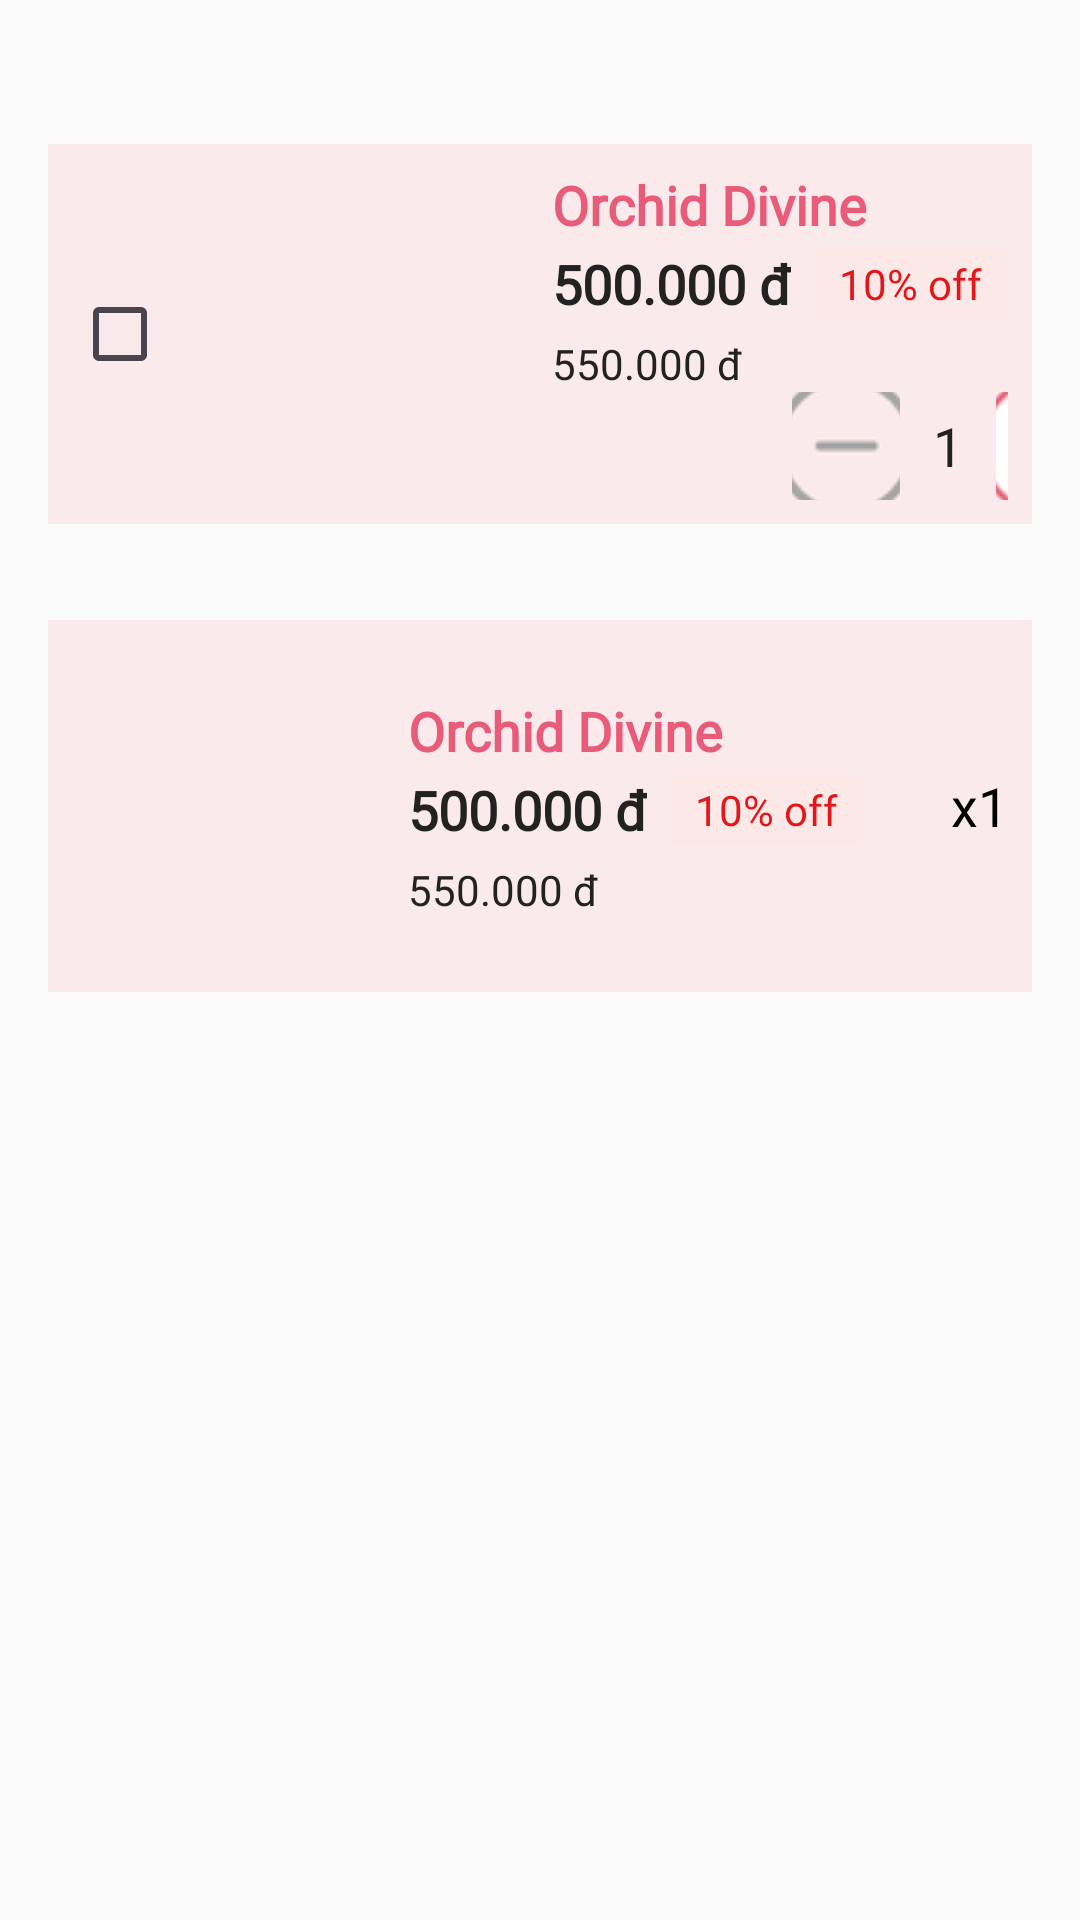

Where icons sit on this 1080x1920 app screen, as (x1, y1, x2, y2):
decrease pinkbg: (792, 392, 900, 500)
